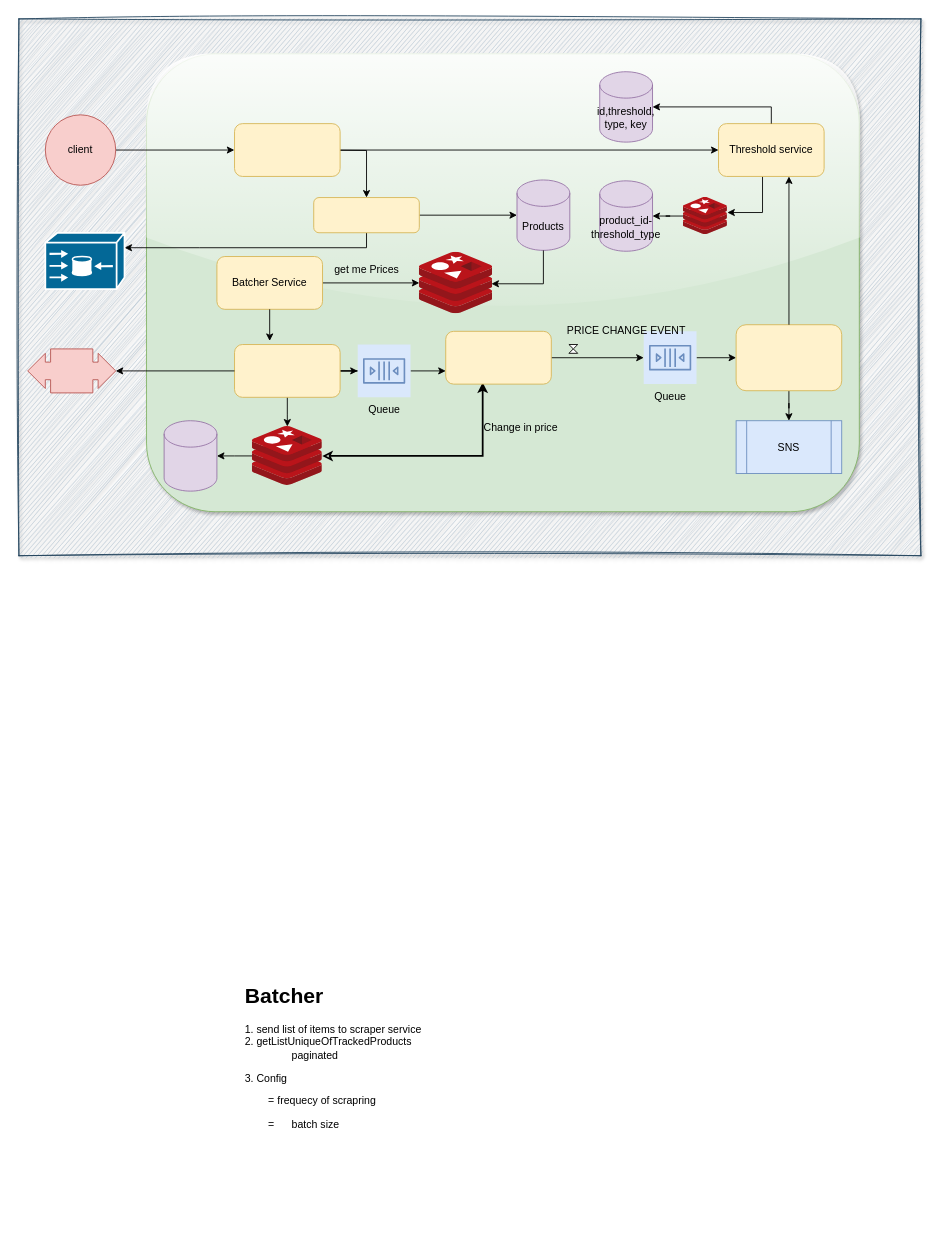
Some shapes in this 942 by 1251 pixel diagram are drawn without their labels. Here are the shapes that lost their labels. From the top down, the centre of each, then its label:
At pixel 287 149: "userManagent Service".
At pixel 366 215: "ProductCatalog".
At pixel 287 370: "scaper service".
At pixel 498 357: "Monitering Service".
At pixel 788 357: "Alerting service".
